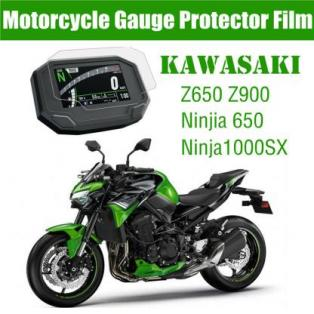Motocicleta: (23, 140, 282, 311)
